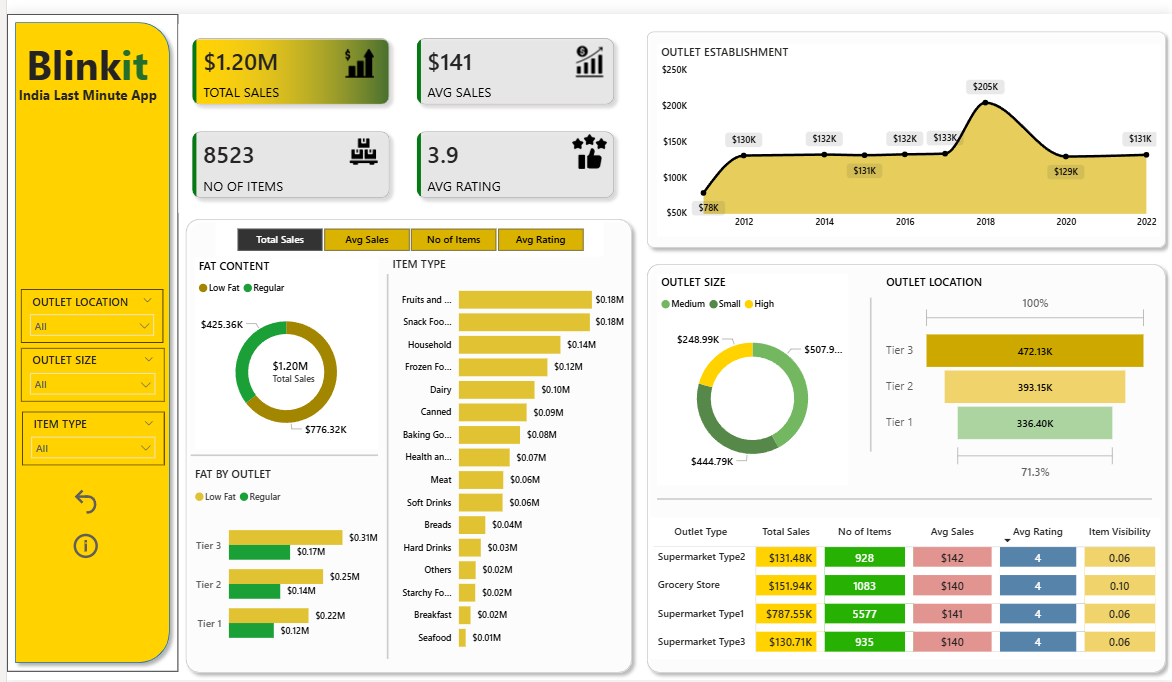

Layout of this report page (visuals, bound fields, positions):
{"tool":"powerbi","page":{"name":"Page 1","canvas":[1400,800],"ordinal":0},"visuals":[{"type":"shape","box":[0,0,205.6,789.5],"z":0},{"type":"textbox","box":[18,22.5,169.6,76.5],"z":1000},{"type":"textbox","box":[9,81,187.6,37.5],"z":2000},{"type":"cardVisual","fields":{"Data":["BlinkIT Grocery Data.Total Sales","BlinkIT Grocery Data.Avg Sales","BlinkIT Grocery Data.No of Items","BlinkIT Grocery Data.Avg Rating"]},"box":[205.6,12,540.3,226.6],"z":3000},{"type":"image","box":[396.2,36,54,46.5],"z":4000},{"type":"shape","box":[205.6,237.1,553.8,562.8],"z":5000},{"type":"shape","box":[759.4,12,640.9,277.7],"z":6000},{"type":"shape","box":[759.4,291.2,640.9,508.8],"z":7000},{"type":"donutChart","title":"FAT CONTENT","fields":{"Y":["BlinkIT Grocery Data.Total Sales"],"Category":["BlinkIT Grocery Data.Item Fat Content"]},"box":[225.1,292.7,220.6,229.6],"z":8000},{"type":"clusteredBarChart","title":"FAT BY OUTLET","fields":{"Y":["BlinkIT Grocery Data.Total Sales"],"Category":["BlinkIT Grocery Data.Outlet Location Type"],"Series":["BlinkIT Grocery Data.Item Fat Content"]},"box":[220.6,543.3,229.6,231.1],"z":9000},{"type":"barChart","title":"ITEM TYPE","fields":{"Y":["BlinkIT Grocery Data.Total Sales"],"Category":["BlinkIT Grocery Data.Item Type"]},"box":[457.8,291.2,288.2,484.8],"z":10000},{"type":"slicer","fields":{"Values":["Metrics.Metrics"]},"box":[250.6,250.6,465.3,40.5],"z":11000},{"type":"cardVisual","fields":{"Data":["BlinkIT Grocery Data.Total Sales"]},"box":[301.7,400.7,90.1,55.5],"z":12000},{"type":"lineChart","title":"OUTLET ESTABLISHMENT","fields":{"Category":["BlinkIT Grocery Data.Outlet Establishment Year"],"Y":["BlinkIT Grocery Data.Total Sales"]},"box":[780.4,36,604.8,231.1],"z":13000},{"type":"donutChart","title":"OUTLET SIZE","fields":{"Category":["BlinkIT Grocery Data.Outlet Size"],"Y":["BlinkIT Grocery Data.Total Sales"]},"box":[780.4,312.2,229.6,253.6],"z":14000},{"type":"funnel","title":"OUTLET LOCATION","fields":{"Category":["BlinkIT Grocery Data.Outlet Location Type"],"Y":["Sum(BlinkIT Grocery Data.Sales)"]},"box":[1050.6,312.2,324.2,253.6],"z":15000},{"type":"pivotTable","fields":{"Rows":["BlinkIT Grocery Data.Outlet Type"],"Values":["BlinkIT Grocery Data.Total Sales","BlinkIT Grocery Data.No of Items","BlinkIT Grocery Data.Avg Sales","BlinkIT Grocery Data.Avg Rating","Avg(BlinkIT Grocery Data.Item Visibility)"]},"box":[771.4,604.8,613.9,169.6],"z":16000},{"type":"slicer","fields":{"Values":["BlinkIT Grocery Data.Outlet Location Type"]},"box":[16.5,330.2,171.1,64.5],"z":17000},{"type":"slicer","fields":{"Values":["BlinkIT Grocery Data.Outlet Size"]},"box":[16.5,400.7,172.6,64.5],"z":18000},{"type":"slicer","fields":{"Values":["BlinkIT Grocery Data.Item Type"]},"box":[18,477.3,171.1,64.5],"z":19000},{"type":"actionButton","box":[75,565.8,51,39],"z":20000},{"type":"actionButton","box":[75,618.4,39,40.5],"z":21000},{"type":"image","box":[406.7,139.6,43.5,51],"z":22000},{"type":"image","box":[673.9,139.6,51,51],"z":23000},{"type":"image","box":[673.9,33,51,48],"z":24000},{"type":"shape","box":[220.6,516.3,225.1,27],"z":25000},{"type":"shape","box":[433.7,312.2,46.5,462.3],"z":26000},{"type":"shape","box":[780.4,565.8,594.3,33],"z":27000},{"type":"shape","box":[1023.6,340.7,27,184.6],"z":28000}]}

Visuals, with their boxes in screenshot pixels (x1, y1, x2, y2), scaled from the page's 1400x800 canvas onto the 1172x682 screenshot:
shape: <box>0,0,172,673</box>
textbox: <box>15,19,157,84</box>
textbox: <box>8,69,165,101</box>
cardVisual - BlinkIT Grocery Data.Total Sales x BlinkIT Grocery Data.Avg Sales: <box>172,10,624,203</box>
image: <box>332,31,377,70</box>
shape: <box>172,202,636,681</box>
shape: <box>636,10,1171,247</box>
shape: <box>636,248,1171,681</box>
"FAT CONTENT" donutChart: <box>188,250,373,445</box>
"FAT BY OUTLET" clusteredBarChart: <box>185,463,377,660</box>
"ITEM TYPE" barChart: <box>383,248,625,662</box>
slicer - Metrics.Metrics: <box>210,214,599,248</box>
cardVisual - BlinkIT Grocery Data.Total Sales: <box>253,342,328,389</box>
"OUTLET ESTABLISHMENT" lineChart: <box>653,31,1160,228</box>
"OUTLET SIZE" donutChart: <box>653,266,846,482</box>
"OUTLET LOCATION" funnel: <box>880,266,1151,482</box>
pivotTable - BlinkIT Grocery Data.Outlet Type x BlinkIT Grocery Data.Total Sales: <box>646,516,1160,660</box>
slicer - BlinkIT Grocery Data.Outlet Location Type: <box>14,281,157,336</box>
slicer - BlinkIT Grocery Data.Outlet Size: <box>14,342,158,397</box>
slicer - BlinkIT Grocery Data.Item Type: <box>15,407,158,462</box>
actionButton: <box>63,482,105,516</box>
actionButton: <box>63,527,95,562</box>
image: <box>340,119,377,162</box>
image: <box>564,119,607,162</box>
image: <box>564,28,607,69</box>
shape: <box>185,440,373,463</box>
shape: <box>363,266,402,660</box>
shape: <box>653,482,1151,510</box>
shape: <box>857,290,880,448</box>
